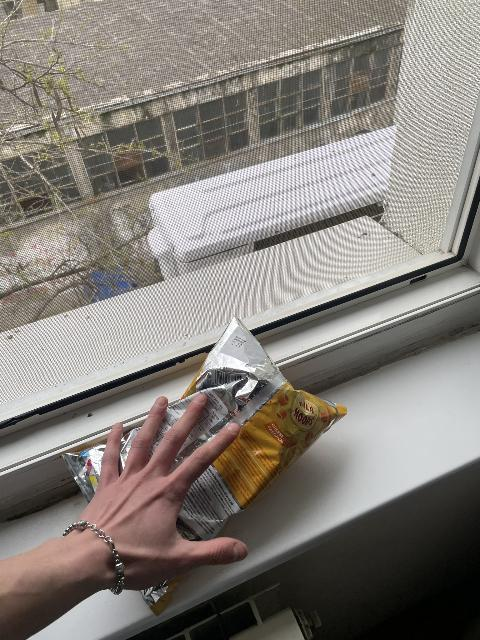Chio Hula Hoops Cheese 70g: (68, 324, 341, 609)
